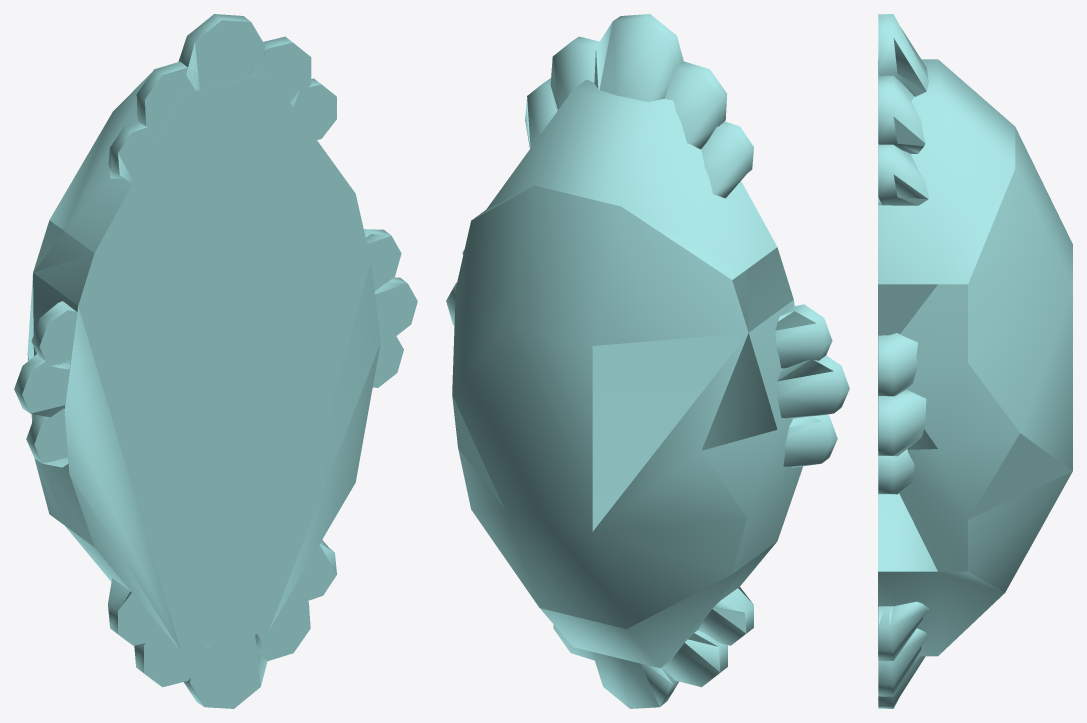
Rendered from RoundMirror.FBX.
The picture shows the model from 3 angles, left to right: view 1: azimuth 30°, elevation 25°; view 2: azimuth 150°, elevation 25°; view 3: azimuth 270°, elevation 25°; orthographic projection.
Parts seen in each view (by area): view 1: Box002; view 2: Box002; view 3: Box002.
Boxes of the visible parts, box(x1,y1,x2,y2) form: Box002: box(14, 14, 417, 708); Box002: box(446, 14, 849, 708); Box002: box(878, 14, 1072, 708).
Bounding box in the file's own units: 59.74 × 99.79 × 25.56.
